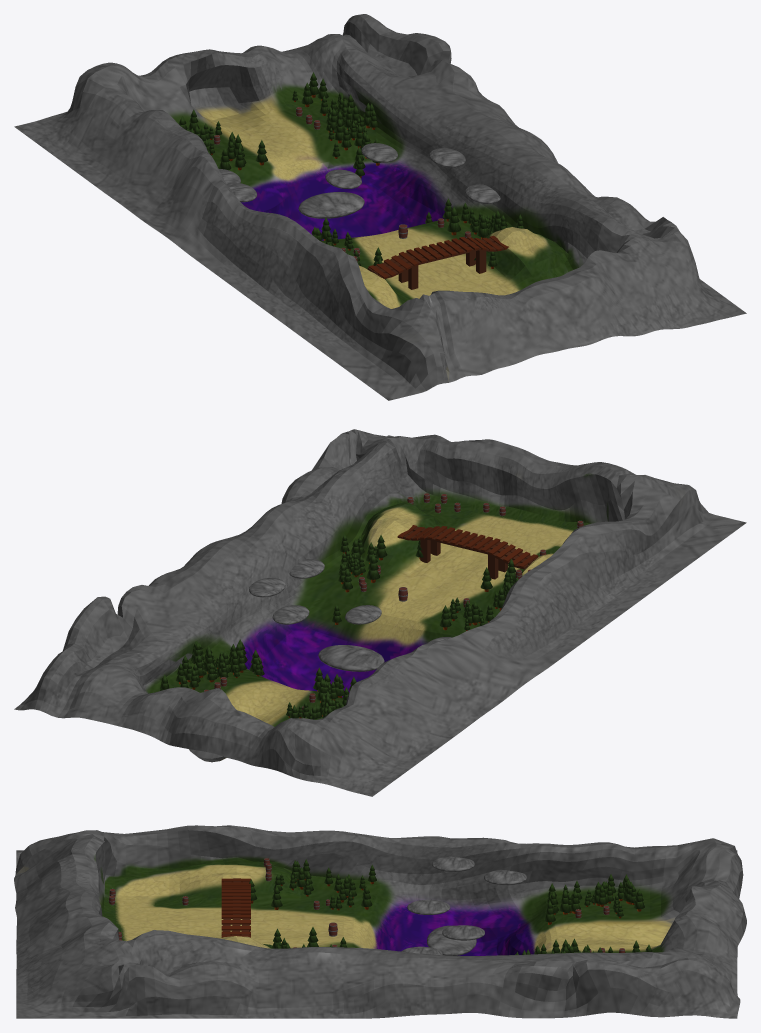
Rendered from level1.fbx.
3 renders of one model, top to bottom at view 1: azimuth 30°, elevation 25°; view 2: azimuth 150°, elevation 25°; view 3: azimuth 270°, elevation 25°, orthographic. The views are drawn at different scales.
Visible parts, largest first — view 1: Plane, Sphere.001, Cube, Sphere.006; view 2: Plane, Sphere.001, Cube, Sphere.006; view 3: Plane, Sphere.001, Cube, Sphere.006.
Part boxes in pixels (x1,y1,x2,y2): Plane: (14,14,746,400); Sphere.001: (219,143,500,203); Cube: (368,235,508,278); Sphere.006: (298,192,364,218); Plane: (14,429,746,796); Sphere.001: (249,559,452,643); Cube: (397,525,538,568); Sphere.006: (318,645,384,671); Plane: (14,825,746,1018); Sphere.001: (401,856,526,955); Cube: (221,878,250,937); Sphere.006: (427,925,476,955).
Size of the model in its own units: 56947 by 10156 by 31026.
